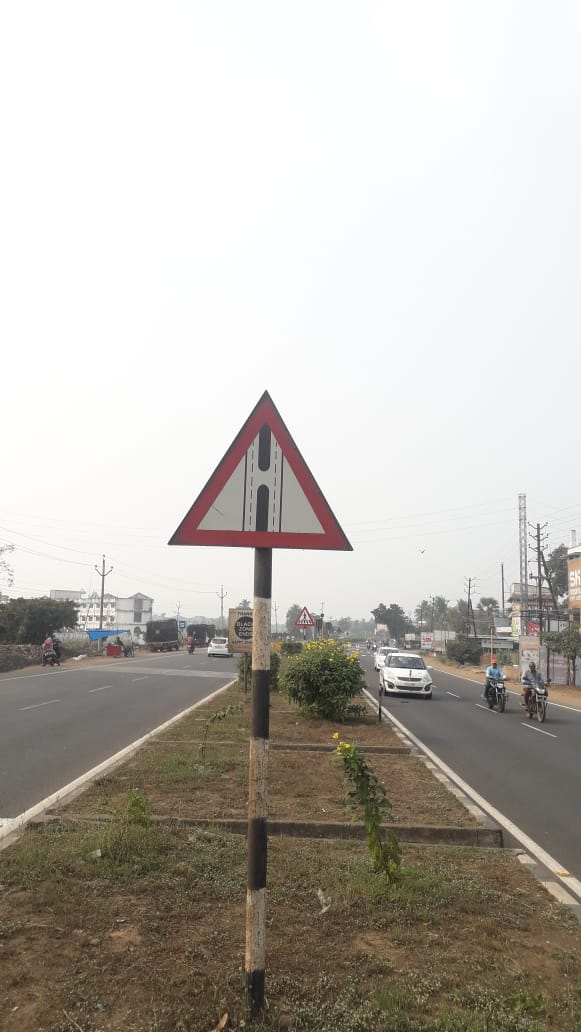highway go straight: (158, 377, 381, 579)
